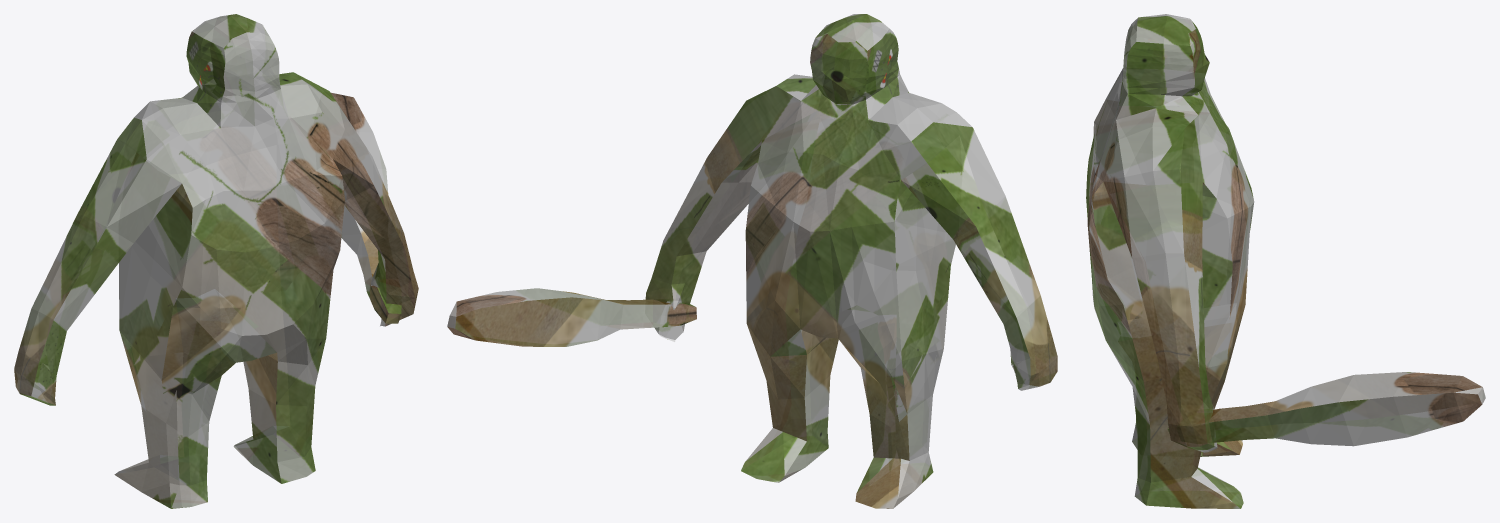
File: Enemigo229.obj
The picture shows the model from 3 angles, left to right: view 1: azimuth 30°, elevation 25°; view 2: azimuth 150°, elevation 25°; view 3: azimuth 270°, elevation 25°; orthographic projection. The views are drawn at different scales.
Parts seen in each view (by area): view 1: Cube; view 2: Cube; view 3: Cube.
Part boxes in pixels (<box>): Cube: <box>14,14,418,508</box>; Cube: <box>447,14,1057,508</box>; Cube: <box>1086,14,1485,508</box>.
Bounding box in the file's own units: 2.88 × 2.71 × 2.13.
Materials: 1 (1 with a texture image).
